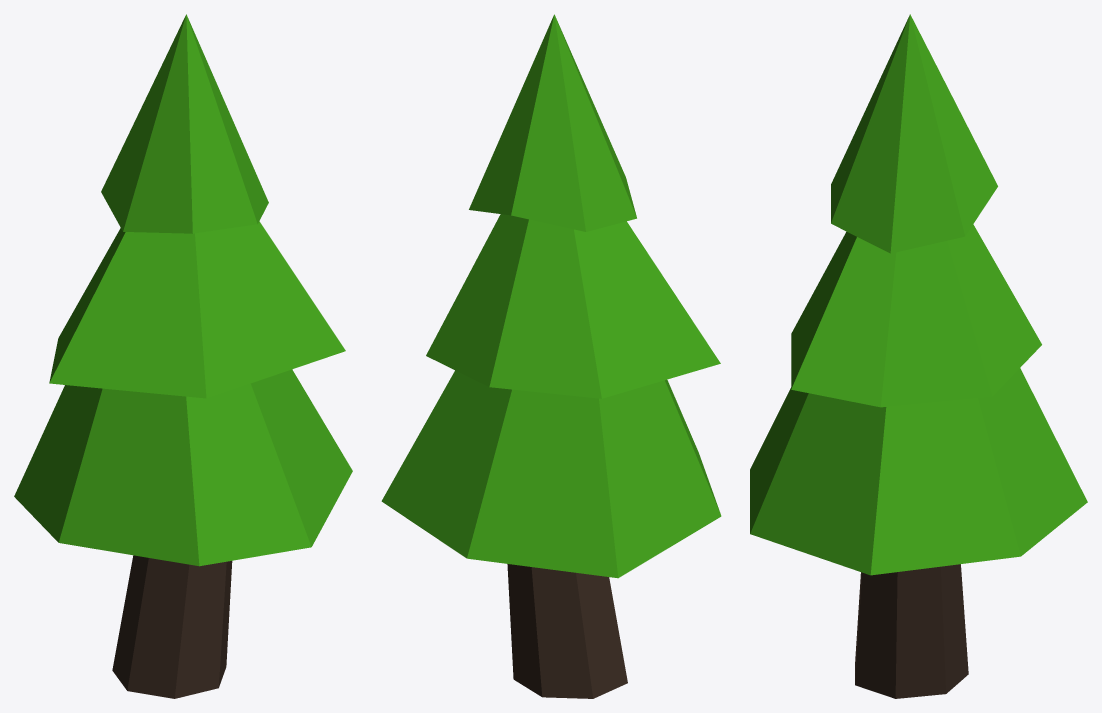
File: tree_pino.fbx
The picture shows the model from 3 angles, left to right: view 1: azimuth 30°, elevation 25°; view 2: azimuth 150°, elevation 25°; view 3: azimuth 270°, elevation 25°; orthographic projection.
Visible parts, largest first — view 1: Tree_Pino; view 2: Tree_Pino; view 3: Tree_Pino.
Part boxes in pixels (left/top/right/bottom): Tree_Pino: left=14, top=14, right=352, bottom=698; Tree_Pino: left=381, top=14, right=721, bottom=698; Tree_Pino: left=750, top=14, right=1087, bottom=698.
Bounding box in the file's own units: 267 × 560 × 257.
1 material, 1 textured.
